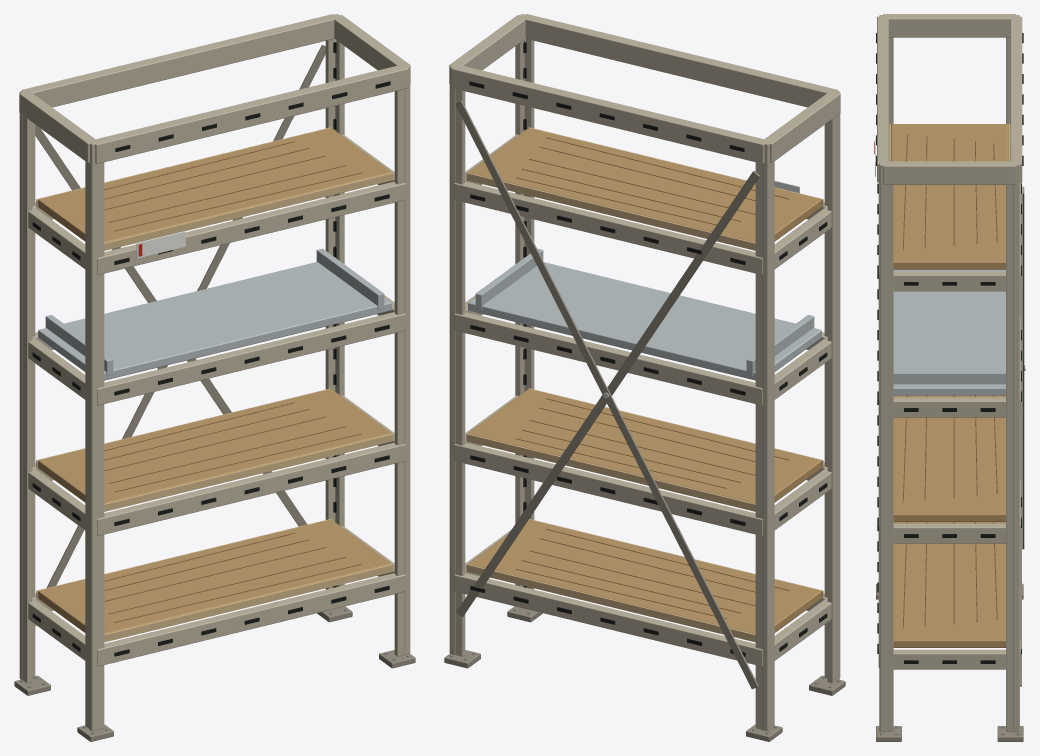
The model's file is slotted-angle-storage-rack.glb.
3 renders of one model, left to right at view 1: azimuth 30°, elevation 25°; view 2: azimuth 150°, elevation 25°; view 3: azimuth 270°, elevation 25°, orthographic. The views are drawn at different scales.
Parts seen in each view (by area): view 1: Runtime_Room_809_warm_beige_powder_coat, Runtime_Sealed_birch_shelf_face, Runtime_Galvanized_welded_steel, Runtime_Birch_plywood_laminated_edge, Runtime_Powder_coat_worn_edge, Runtime_Subtle_shelf_wood_grain, Runtime_Perforation_shadow, Runtime_Matte_inventory_label; view 2: Runtime_Room_809_warm_beige_powder_coat, Runtime_Sealed_birch_shelf_face, Runtime_Galvanized_welded_steel, Runtime_Powder_coat_worn_edge, Runtime_Birch_plywood_laminated_edge, Runtime_Subtle_shelf_wood_grain, Runtime_Perforation_shadow; view 3: Runtime_Sealed_birch_shelf_face, Runtime_Room_809_warm_beige_powder_coat, Runtime_Galvanized_welded_steel, Runtime_Powder_coat_worn_edge, Runtime_Subtle_shelf_wood_grain, Runtime_Perforation_shadow.
Part boxes in pixels (box(x1,y1,x2,y2)): Runtime_Room_809_warm_beige_powder_coat: box(19, 14, 410, 731); Runtime_Sealed_birch_shelf_face: box(38, 128, 391, 634); Runtime_Galvanized_welded_steel: box(38, 248, 391, 380); Runtime_Birch_plywood_laminated_edge: box(36, 127, 393, 642); Runtime_Powder_coat_worn_edge: box(14, 45, 415, 741); Runtime_Subtle_shelf_wood_grain: box(104, 141, 361, 622); Runtime_Perforation_shadow: box(32, 42, 390, 656); Runtime_Matte_inventory_label: box(136, 231, 185, 258); Runtime_Room_809_warm_beige_powder_coat: box(449, 14, 840, 731); Runtime_Sealed_birch_shelf_face: box(468, 128, 821, 634); Runtime_Galvanized_welded_steel: box(468, 248, 821, 380); Runtime_Powder_coat_worn_edge: box(444, 100, 845, 741); Runtime_Birch_plywood_laminated_edge: box(466, 127, 823, 642); Runtime_Subtle_shelf_wood_grain: box(516, 137, 789, 618); Runtime_Perforation_shadow: box(469, 42, 827, 656); Runtime_Sealed_birch_shelf_face: box(891, 124, 1008, 647); Runtime_Room_809_warm_beige_powder_coat: box(877, 14, 1022, 732); Runtime_Galvanized_welded_steel: box(893, 269, 1005, 395); Runtime_Powder_coat_worn_edge: box(876, 182, 1024, 741); Runtime_Subtle_shelf_wood_grain: box(902, 134, 997, 628); Runtime_Perforation_shadow: box(876, 33, 1023, 663).
Bounding box in the file's own units: 1.2 × 2.1 × 0.5.
